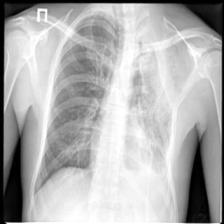tuberculosis: (30, 9, 178, 211)
